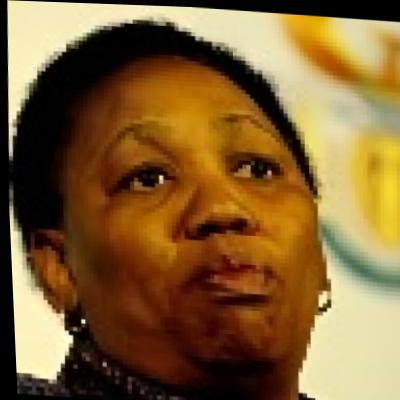sad: (61, 53, 328, 378)
